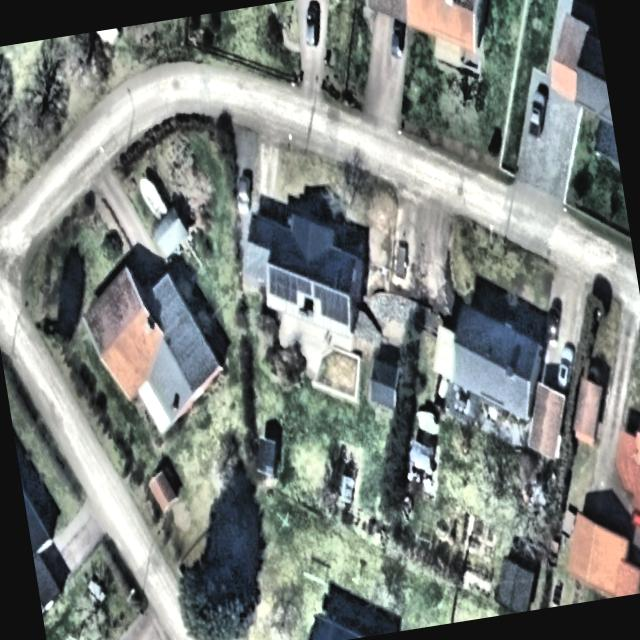roof_pv: (314, 283, 347, 331), (266, 265, 298, 312), (290, 270, 316, 300)
